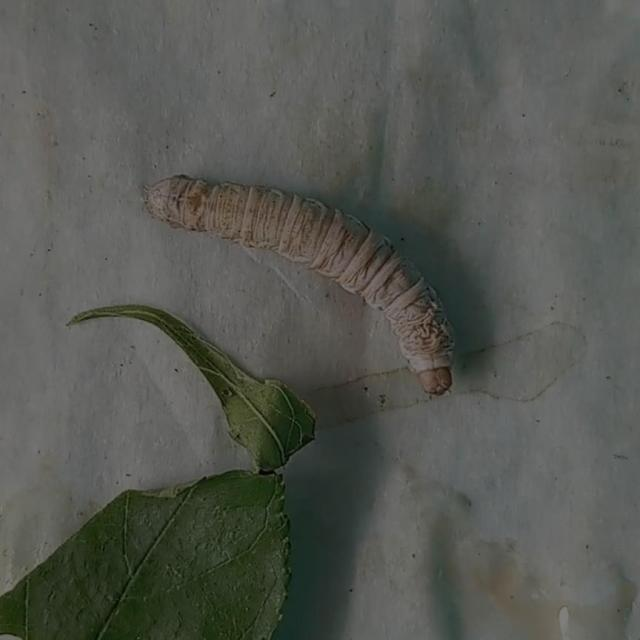Grasserie: (110, 135, 475, 429)
